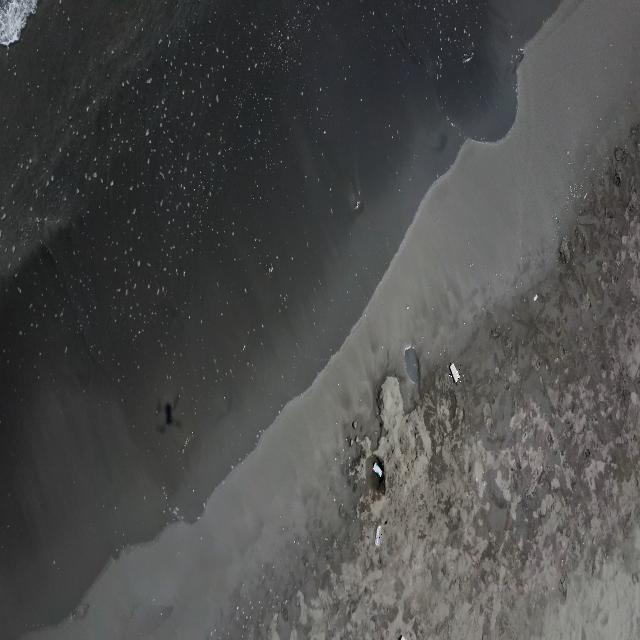takeaway-cup: (449, 362, 461, 384), (376, 525, 384, 547), (374, 461, 384, 478)
